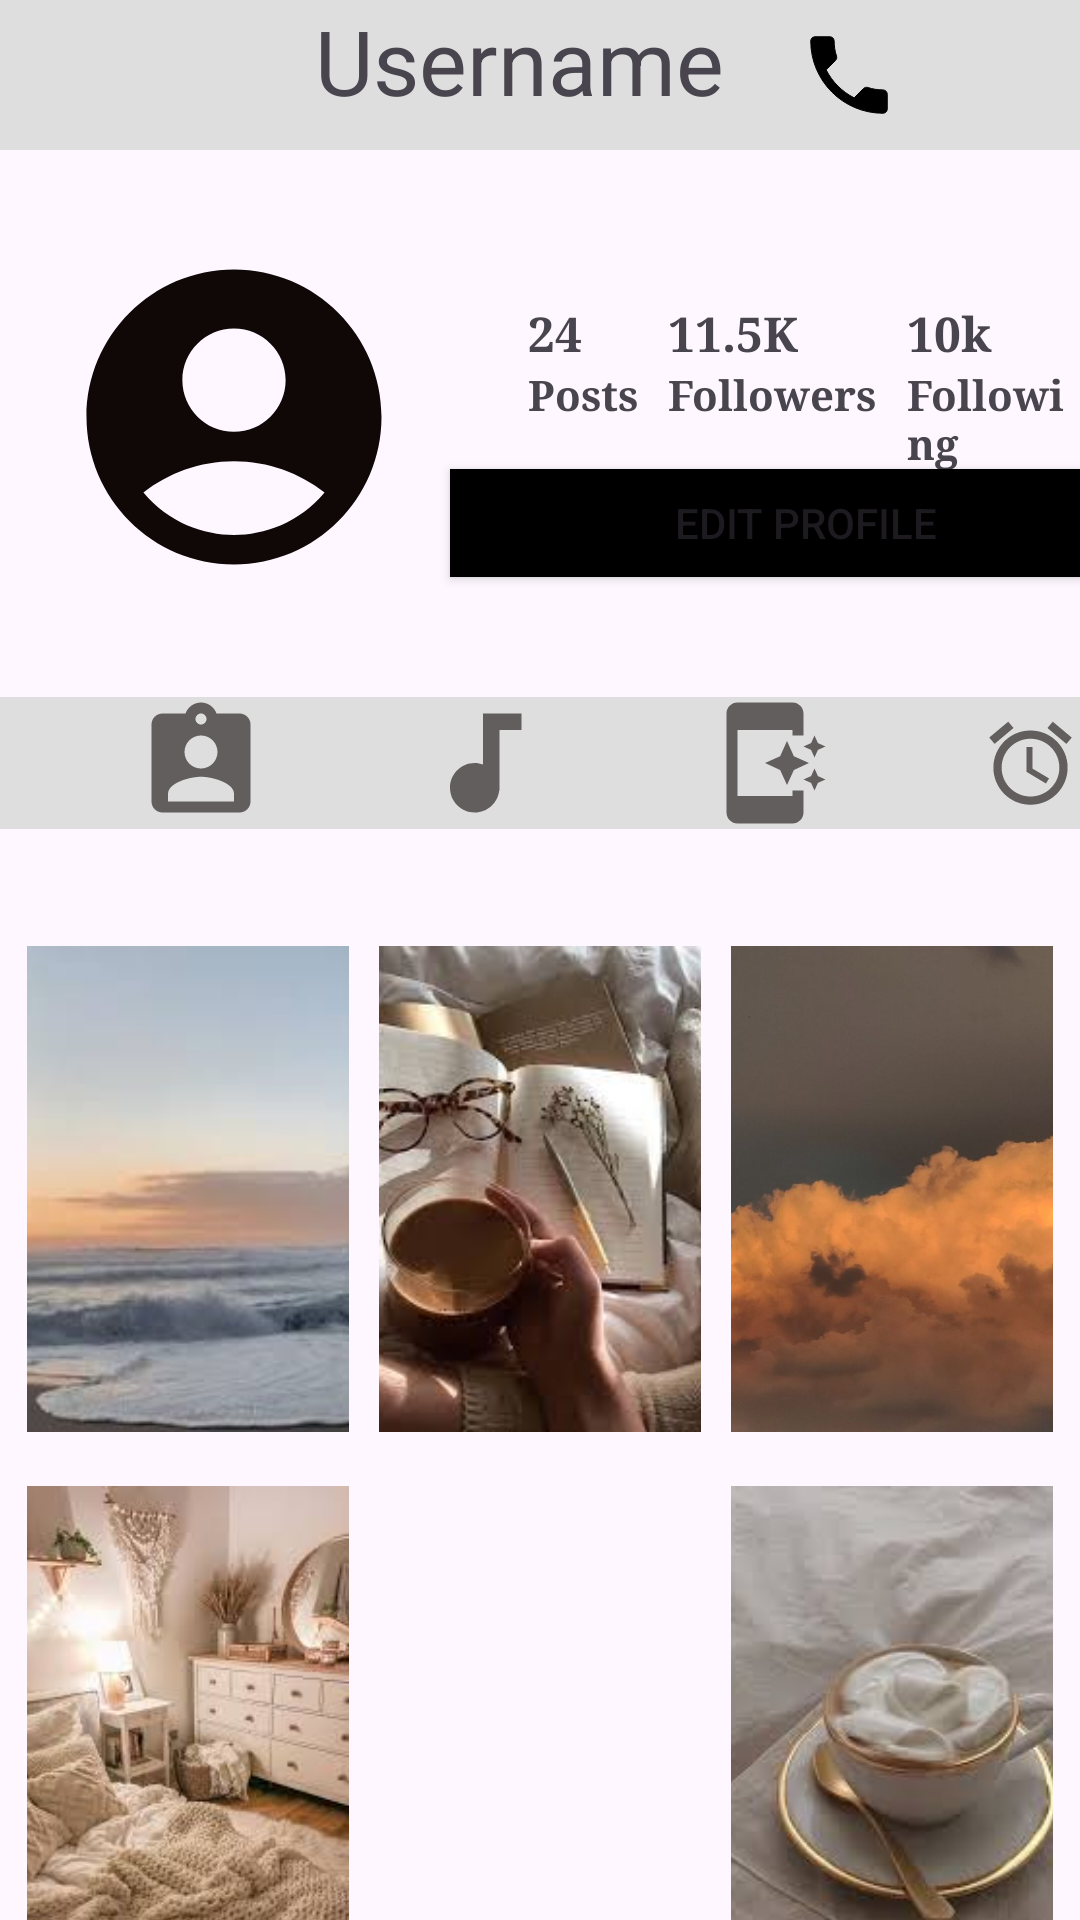

Named icons in this screenshot (1080x1920) and their bounding boxes, (x1, y1, x2, y2):
profilepic: (86, 269, 382, 565)
